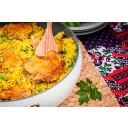briyani: (1, 23, 75, 96)
